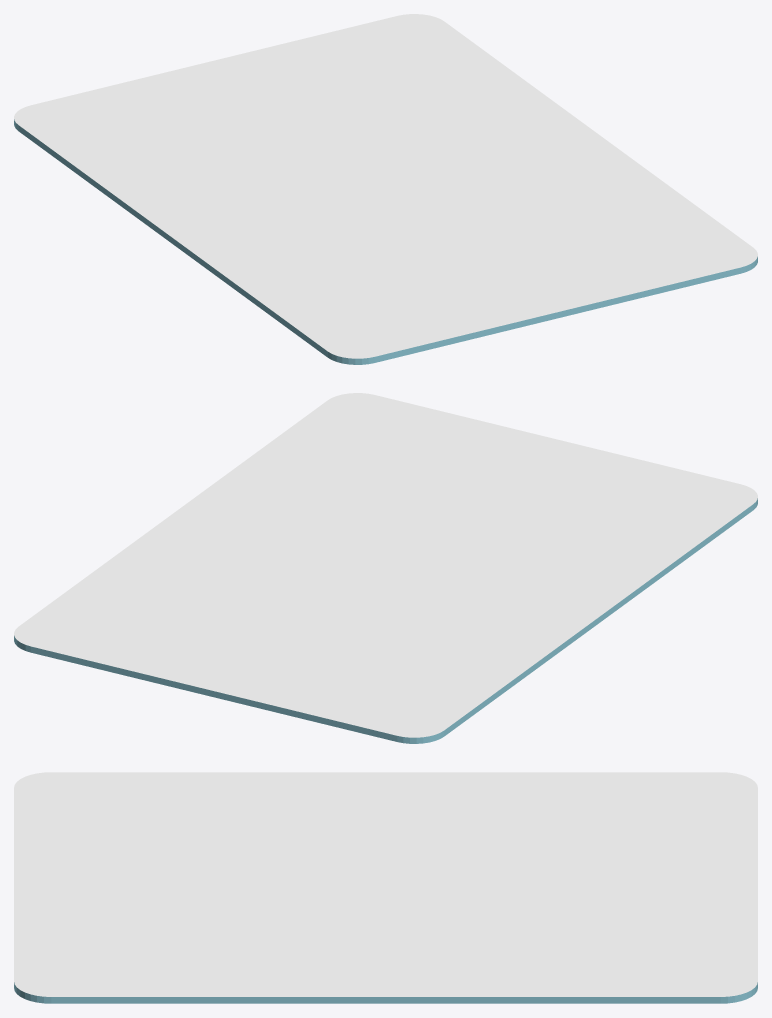
The model's file is card_shatter_02.glb.
3 renders of one model, top to bottom at view 1: azimuth 30°, elevation 25°; view 2: azimuth 150°, elevation 25°; view 3: azimuth 270°, elevation 25°, orthographic. The views are drawn at different scales.
Parts seen in each view (by area): view 1: V02_CardPiece_01, V02_CardPiece_04, V02_CardPiece_07, V02_CardPiece_08, V02_CardPiece_06, V02_CardPiece_05, V02_CardPiece_02, V02_CardPiece_10, V02_CardPiece_09, V02_CardPiece_03; view 2: V02_CardPiece_01, V02_CardPiece_07, V02_CardPiece_08, V02_CardPiece_04, V02_CardPiece_06, V02_CardPiece_05, V02_CardPiece_10, V02_CardPiece_02, V02_CardPiece_09, V02_CardPiece_03; view 3: V02_CardPiece_05, V02_CardPiece_07, V02_CardPiece_04, V02_CardPiece_10, V02_CardPiece_01, V02_CardPiece_08, V02_CardPiece_06, V02_CardPiece_02, V02_CardPiece_09, V02_CardPiece_03.
Boxes of the visible parts, x1,y1,x2,y2 form: V02_CardPiece_01: (171, 222, 419, 364); V02_CardPiece_04: (494, 190, 757, 316); V02_CardPiece_07: (153, 126, 395, 242); V02_CardPiece_08: (135, 35, 351, 154); V02_CardPiece_06: (14, 80, 198, 229); V02_CardPiece_05: (460, 124, 757, 262); V02_CardPiece_02: (314, 223, 566, 351); V02_CardPiece_10: (318, 14, 584, 136); V02_CardPiece_09: (344, 61, 530, 176); V02_CardPiece_03: (313, 171, 510, 273); V02_CardPiece_01: (496, 473, 757, 624); V02_CardPiece_07: (337, 566, 597, 663); V02_CardPiece_08: (110, 594, 356, 716); V02_CardPiece_04: (340, 393, 548, 523); V02_CardPiece_06: (294, 632, 578, 743); V02_CardPiece_05: (159, 394, 343, 545); V02_CardPiece_10: (14, 524, 212, 671); V02_CardPiece_02: (497, 437, 695, 573); V02_CardPiece_09: (151, 536, 361, 642); V02_CardPiece_03: (319, 476, 502, 574); V02_CardPiece_05: (29, 922, 416, 1003); V02_CardPiece_07: (346, 772, 620, 893); V02_CardPiece_04: (14, 886, 317, 1000); V02_CardPiece_10: (416, 935, 757, 1003); V02_CardPiece_01: (14, 772, 388, 836); V02_CardPiece_08: (476, 842, 757, 939); V02_CardPiece_06: (430, 772, 757, 842); V02_CardPiece_02: (14, 811, 343, 888); V02_CardPiece_09: (379, 888, 684, 968); V02_CardPiece_03: (125, 836, 401, 925).
Bounding box in the file's own units: 0.429 × 0.006 × 0.6.
